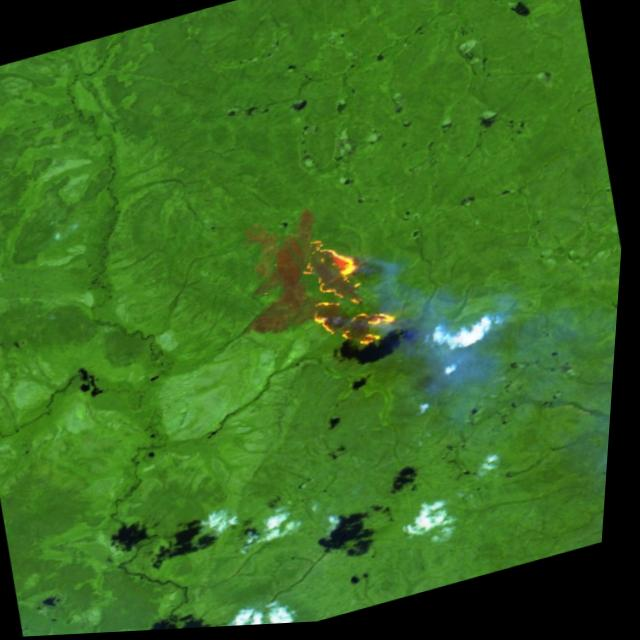fire: (288, 218, 421, 368)
